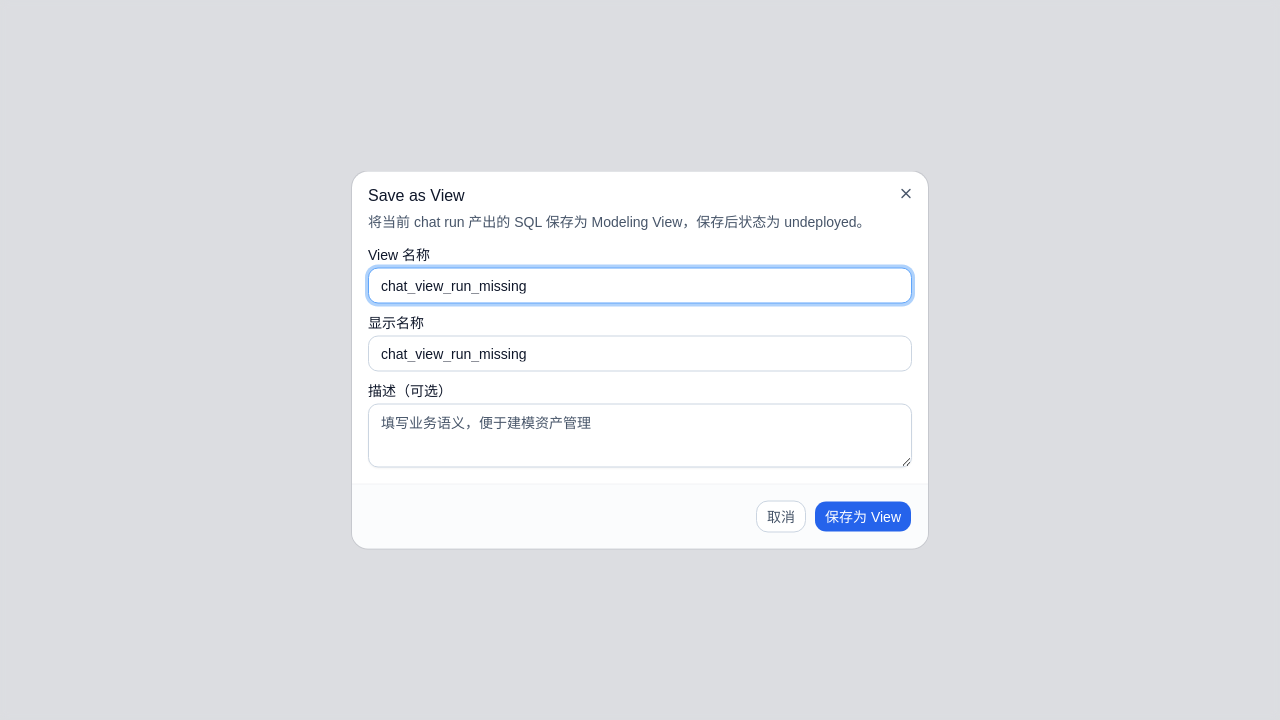
Test case: chat save-as-view dialog › shows invalid run error and keeps input for retry
Replace the text in the field labelled "View 名称" with "orders_recent_10" at point(640, 286), box x1=368 y1=268 x2=912 y2=304
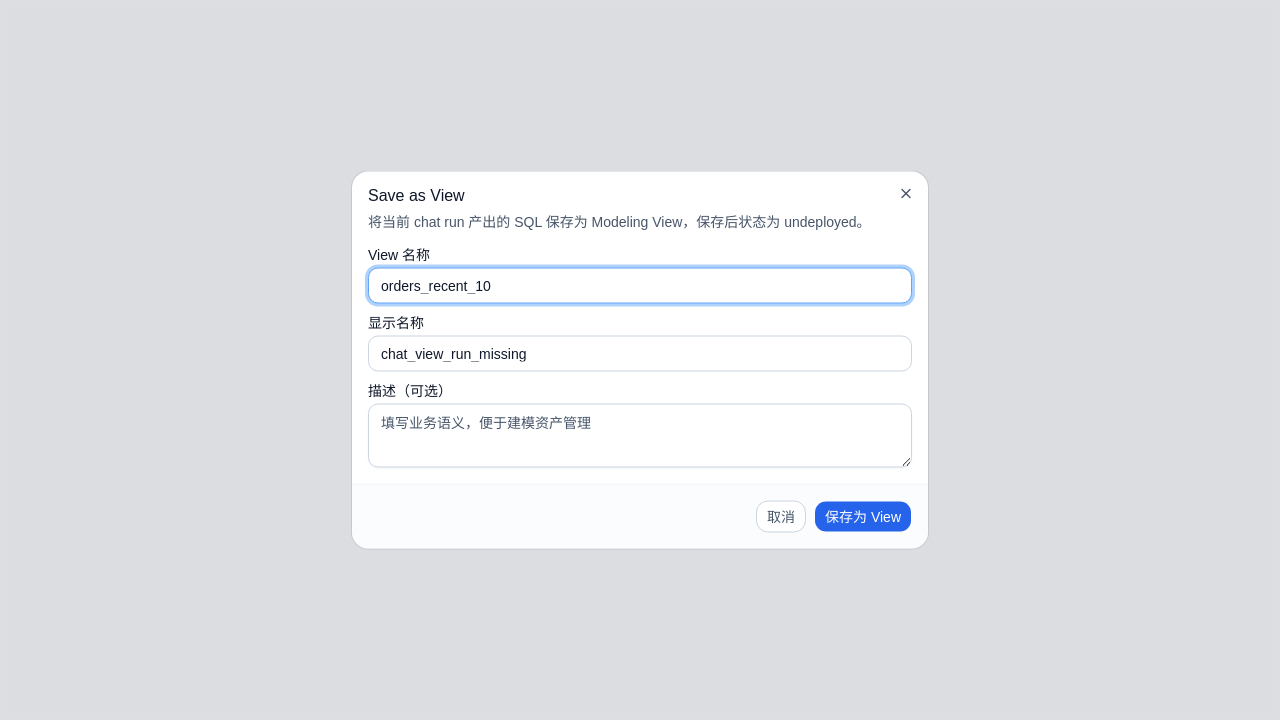
Click the button "保存为 View" at point(863, 516), box x1=814 y1=500 x2=912 y2=532
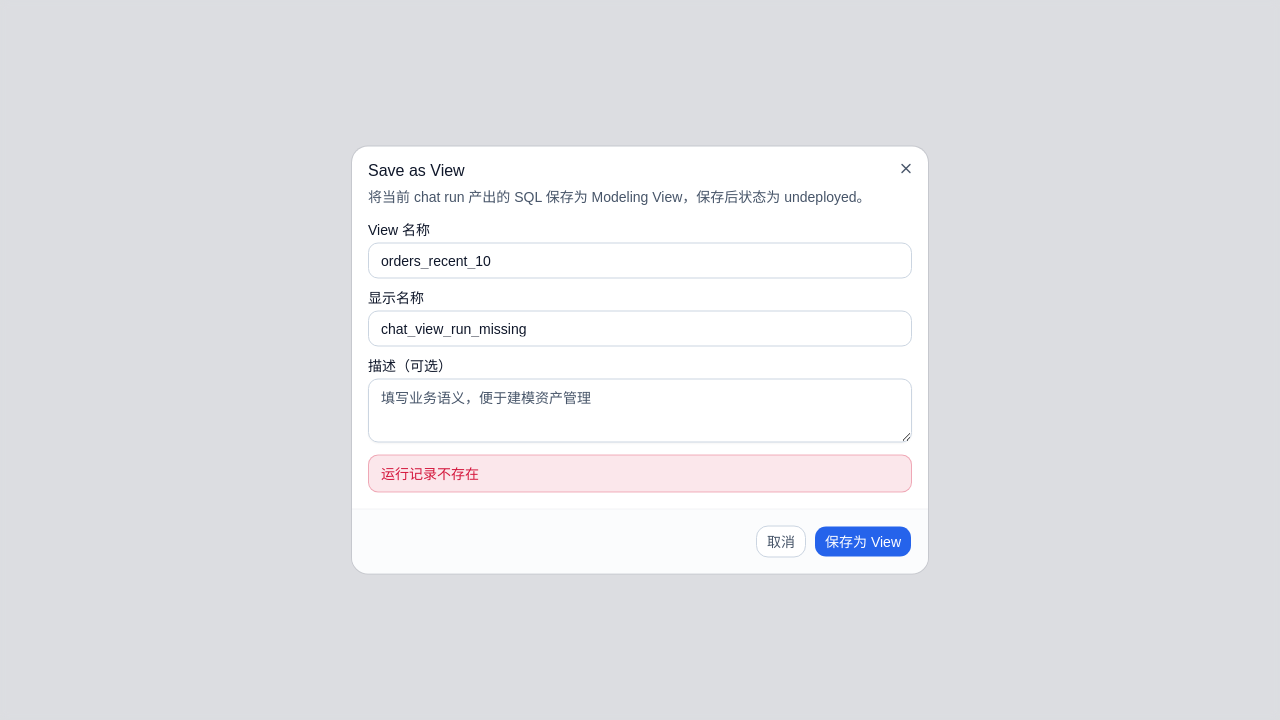
expect the text "运行记录不存在" is shown: met, box x1=368 y1=454 x2=912 y2=492
